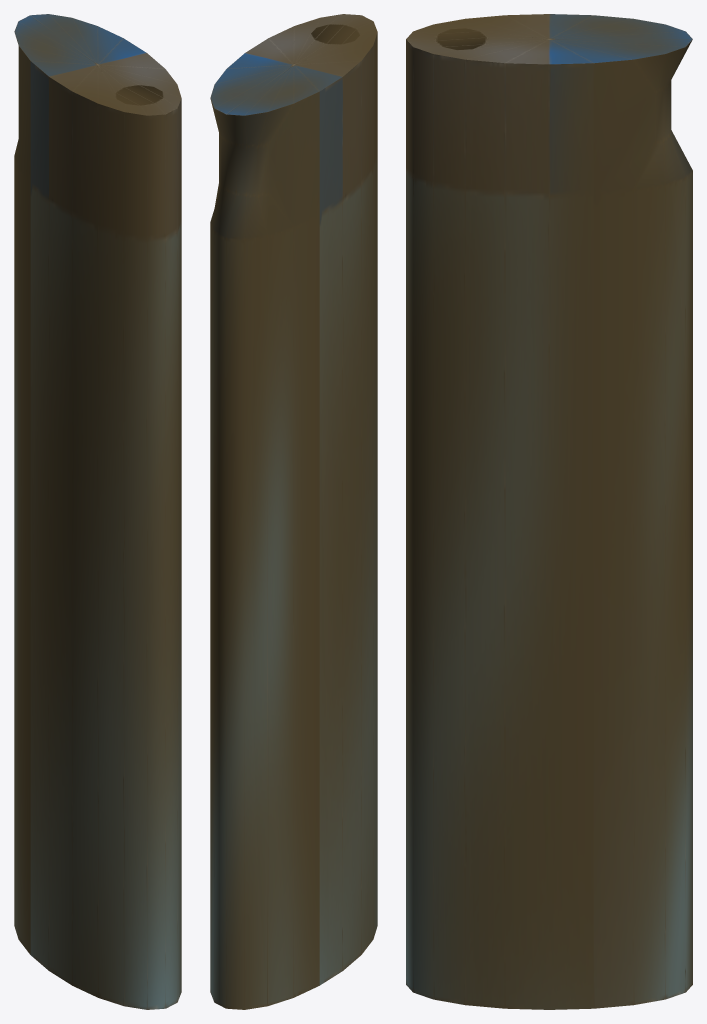
The model's file is ratablue.fbx.
3 renders of one model, left to right at view 1: azimuth 30°, elevation 25°; view 2: azimuth 150°, elevation 25°; view 3: azimuth 270°, elevation 25°, orthographic. The views are drawn at different scales.
Visible parts, largest first — view 1: pCylinder1; view 2: pCylinder1; view 3: pCylinder1.
Boxes of the visible parts, left/top/right/bottom form: pCylinder1: left=14, top=14, right=181, bottom=1009; pCylinder1: left=210, top=14, right=377, bottom=1009; pCylinder1: left=406, top=14, right=692, bottom=1009.
Size of the model in its own units: 0.431 by 3.76 by 1.03.
1 material, 1 textured.
